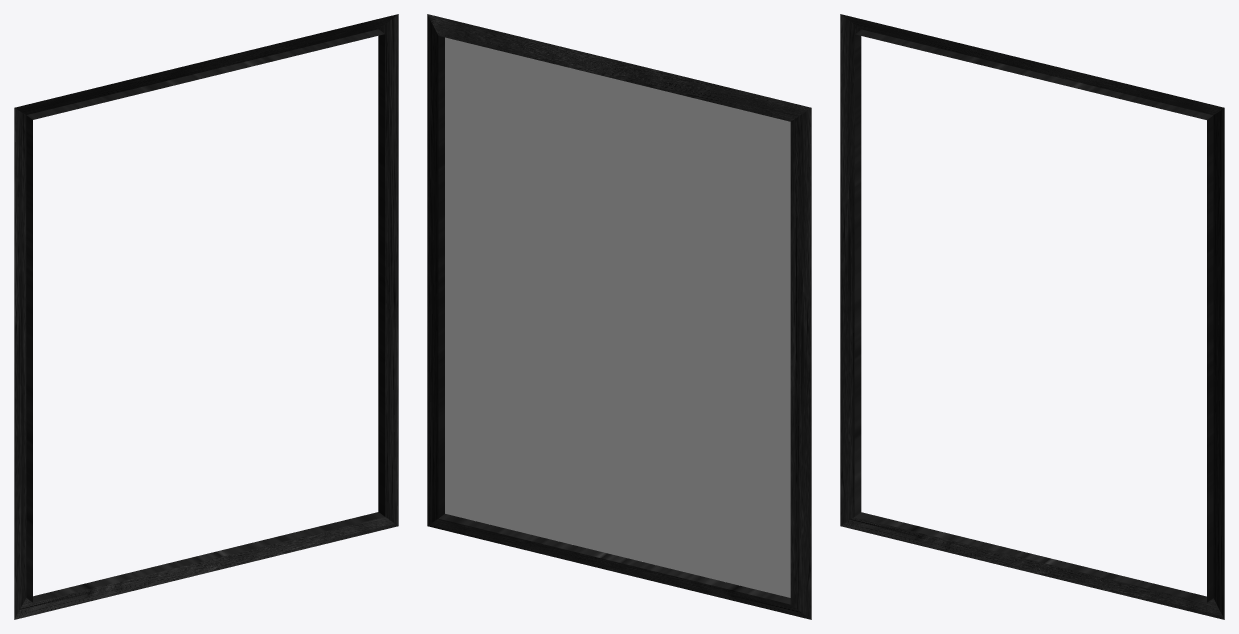
Rendered from VerticalRectangleFrame.glb.
3 renders of one model, left to right at view 1: azimuth 30°, elevation 25°; view 2: azimuth 150°, elevation 25°; view 3: azimuth 330°, elevation 25°, orthographic.
Visible parts, largest first — view 1: Frame (1).001; view 2: Picture (1).001, Frame (1).001; view 3: Frame (1).001.
Boxes of the visible parts, left/top/right/bottom form: Frame (1).001: left=14, top=14, right=398, bottom=619; Picture (1).001: left=445, top=37, right=790, bottom=597; Frame (1).001: left=427, top=14, right=811, bottom=619; Frame (1).001: left=840, top=14, right=1224, bottom=619.
Size of the model in its own units: 0.6313 by 0.804 by 0.0189.
Materials: 1 (1 with a texture image).
